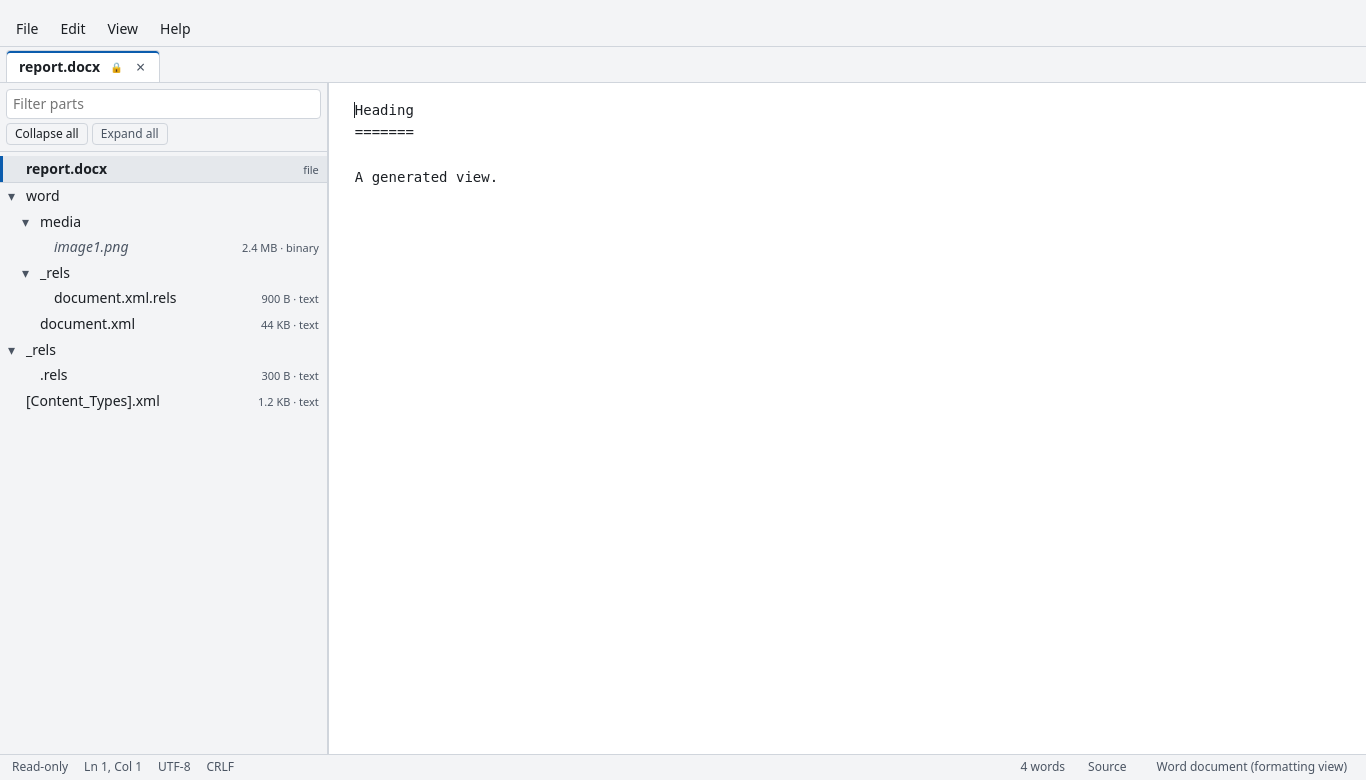
it: the Parts pane › collapses and expands a folder with Enter, and everything with the buttons
This screenshot has width=1366, height=780.
Check: the element named "Parts of the open file" is shown, box [0,156,327,410]
Step 1. Press Enter in the list item "word", box [8,186,60,205]
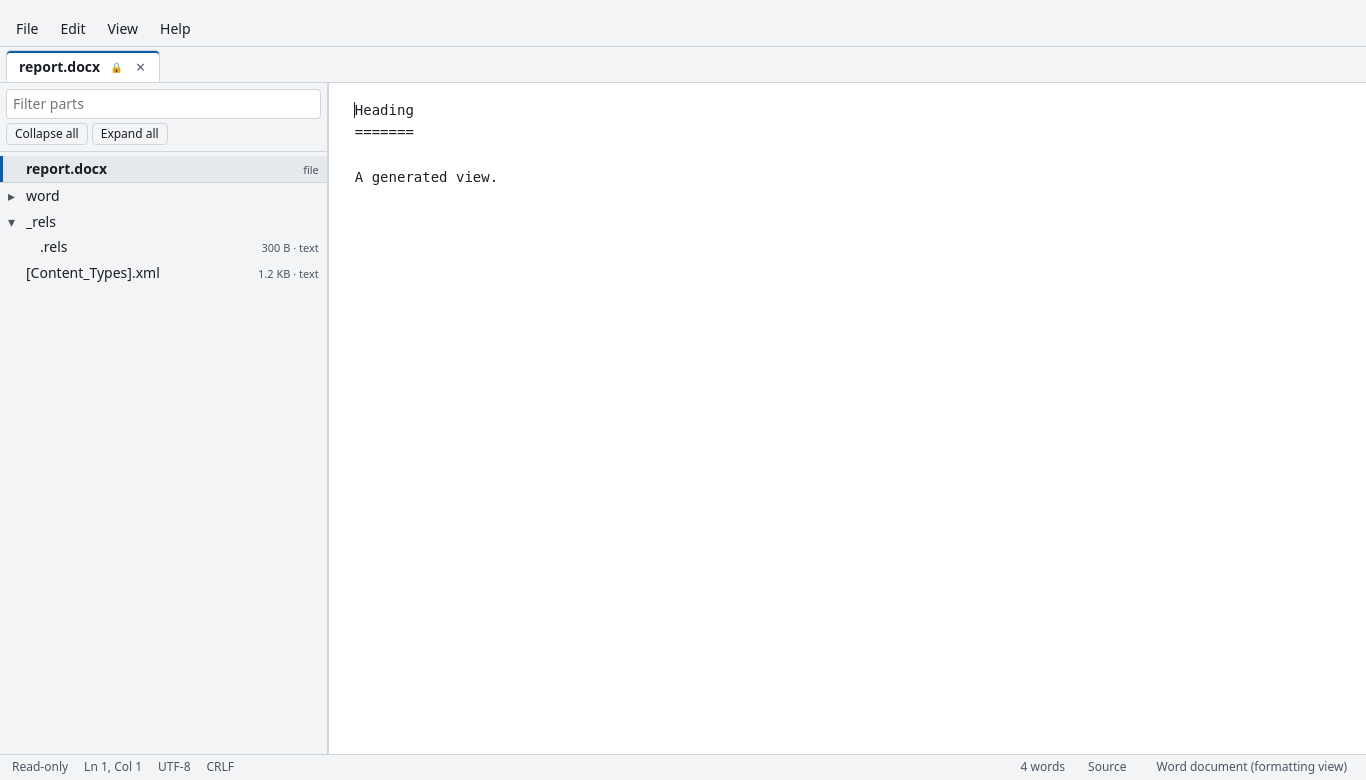
Check: the list item "word" is collapsed, box [8,186,60,205]
Step 2. Click the button "Expand all" → coordinates (130, 134), box [92,123,168,145]
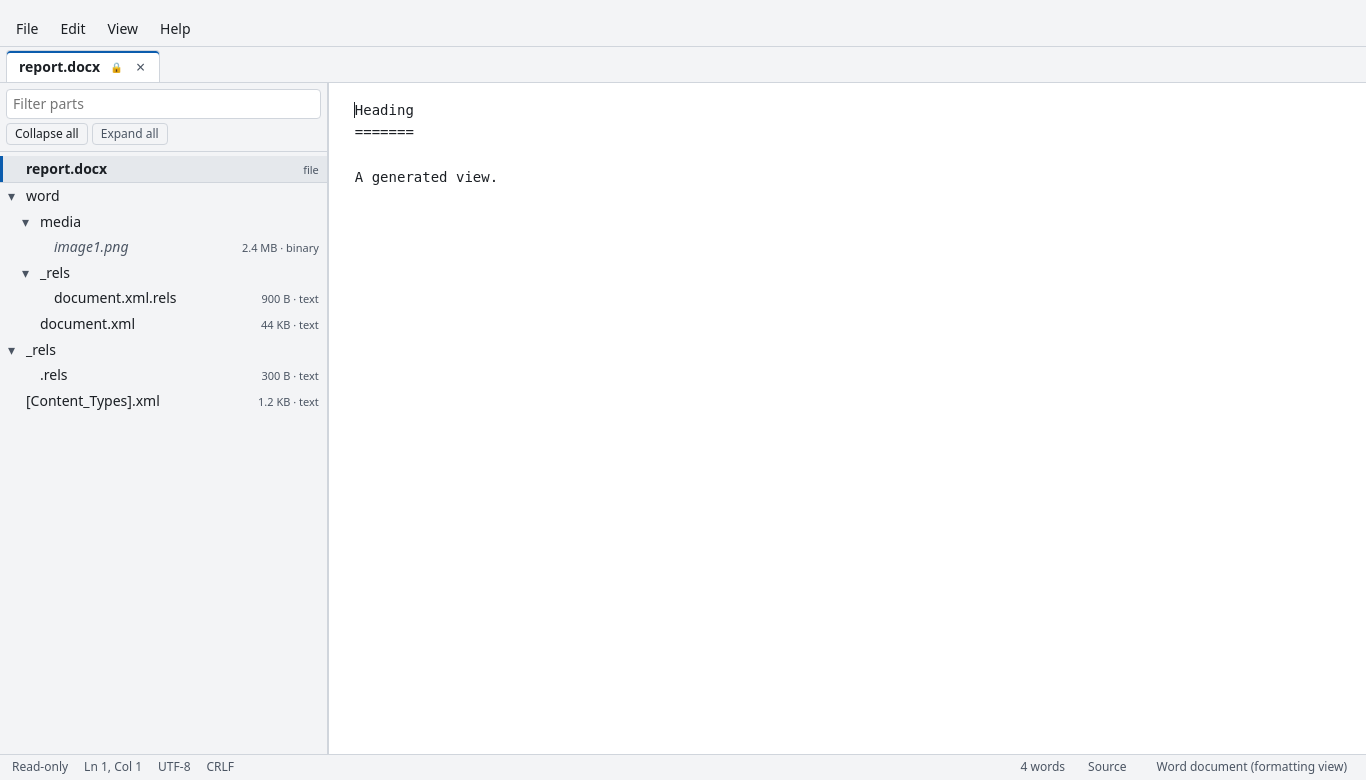
Check: the list item "word" is expanded, box [8,186,60,205]
